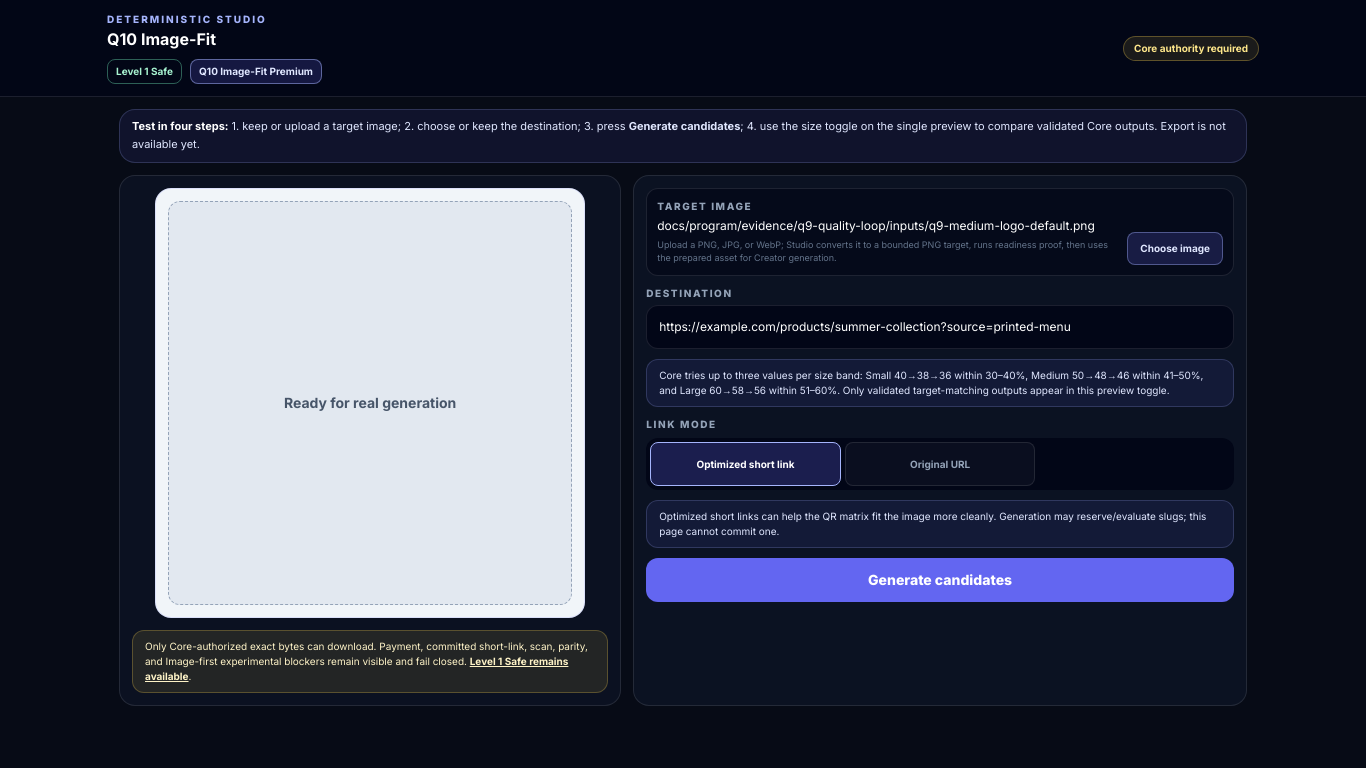
Test case: App integration › disables generation for invalid input
This screenshot has width=1366, height=768.
Clear the field named "Level 2 destination URL". click: (940, 327)
box: x1=646 y1=305 x2=1234 y2=349
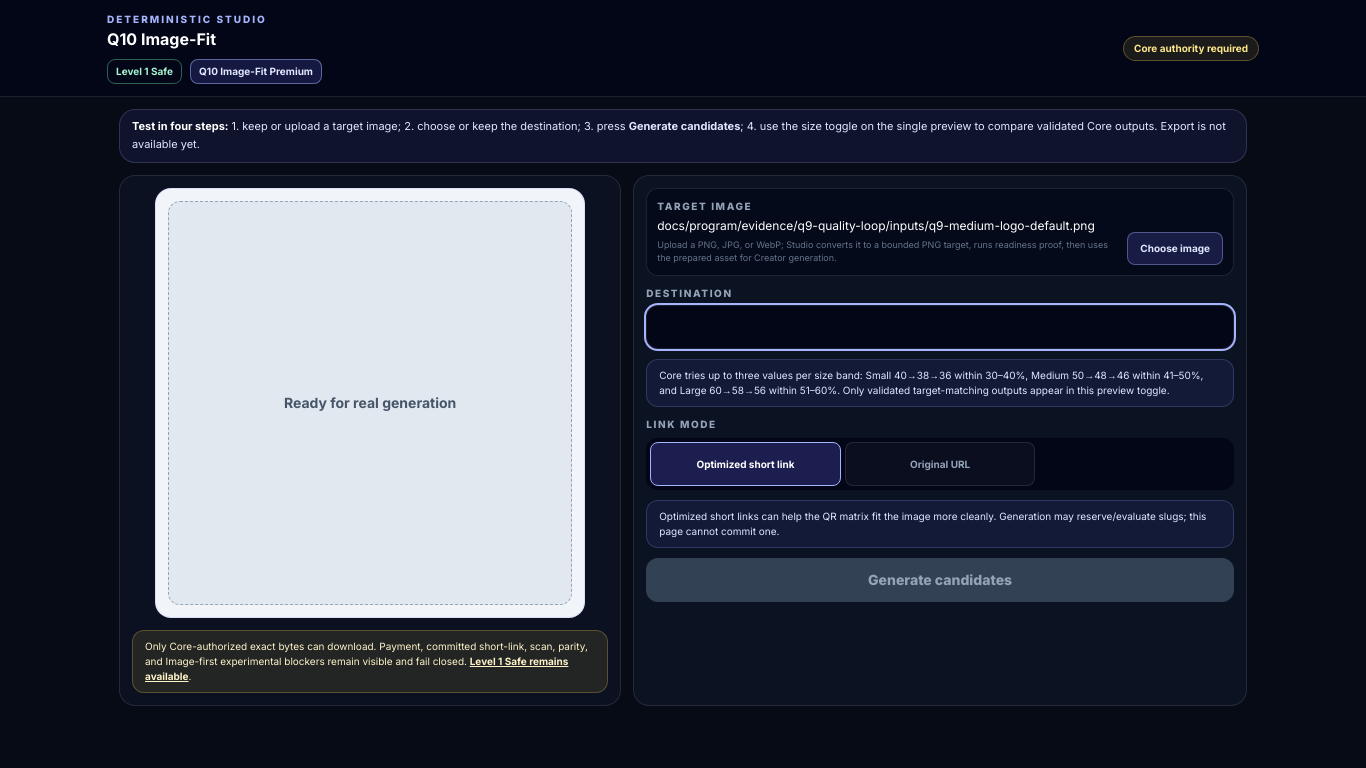
Expected: the button "Generate candidates" is disabled, x1=646 y1=558 x2=1234 y2=602
